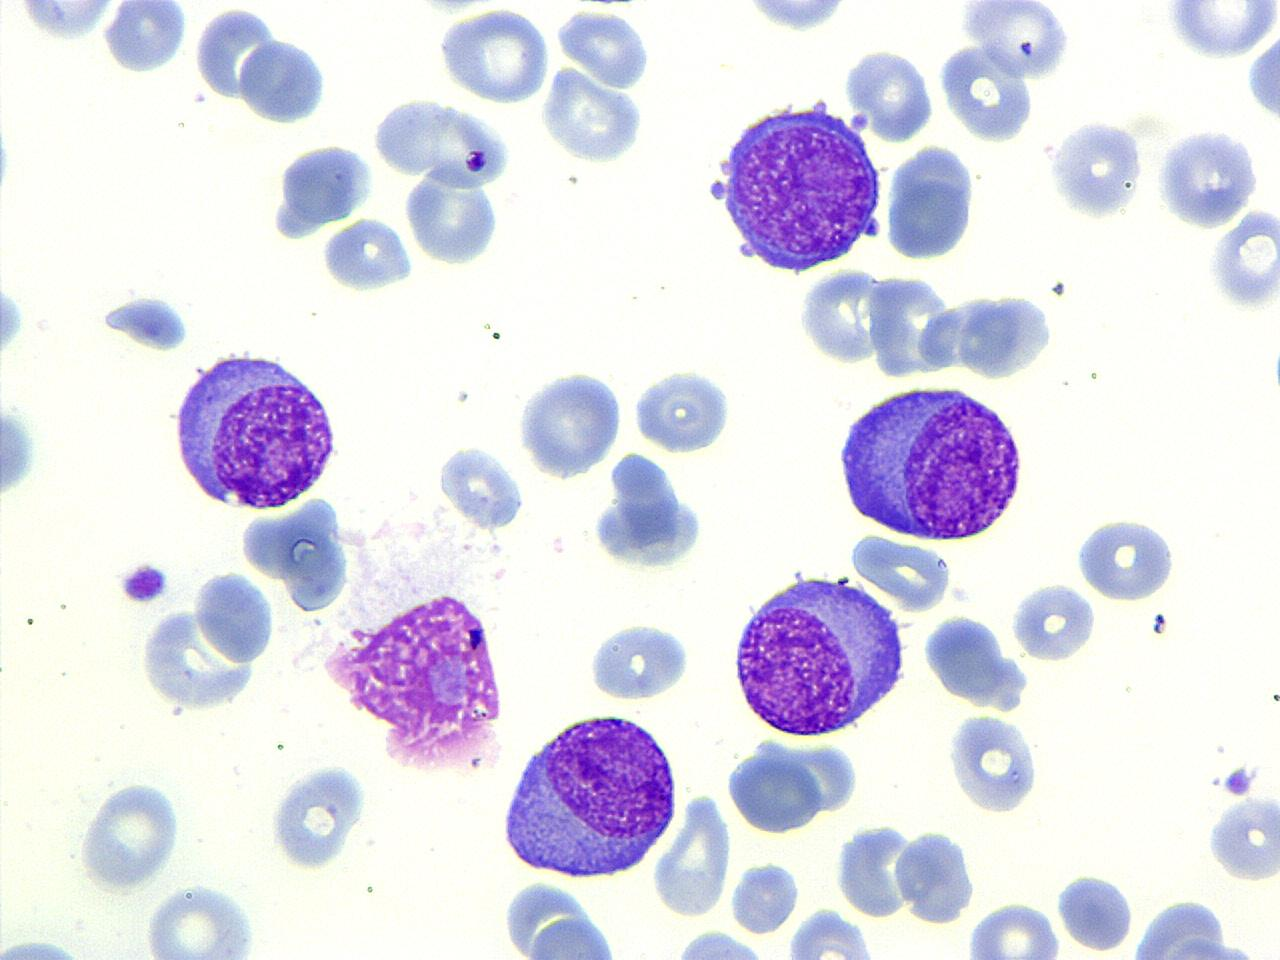Platelets: (946, 710, 1042, 816), (554, 7, 656, 91), (1207, 208, 1279, 315), (1160, 1, 1278, 64), (1009, 580, 1097, 664), (1203, 794, 1279, 886), (1055, 870, 1137, 952), (98, 295, 191, 354), (0, 405, 41, 502), (1246, 22, 1280, 127), (114, 558, 171, 608), (0, 936, 91, 960), (0, 280, 26, 358), (0, 123, 16, 202), (1222, 764, 1256, 800), (1268, 340, 1280, 407), (465, 145, 489, 170), (707, 178, 729, 202), (863, 216, 883, 238), (1152, 610, 1168, 636)
RBC: (74, 776, 184, 896), (436, 6, 550, 108), (649, 789, 734, 919), (864, 272, 959, 383), (141, 878, 259, 960), (952, 290, 1054, 382), (958, 0, 1071, 83), (848, 529, 954, 611), (554, 5, 652, 93), (1009, 579, 1099, 664), (1159, 1, 1279, 63), (1204, 790, 1280, 884), (1054, 870, 1138, 954), (962, 901, 1062, 959), (784, 906, 878, 958)
WBC: (79, 0, 748, 446), (318, 583, 514, 775), (832, 377, 1028, 545), (500, 708, 684, 883), (710, 95, 885, 277), (729, 568, 911, 742), (167, 346, 340, 513), (136, 568, 278, 718), (591, 448, 708, 580), (721, 730, 852, 836), (76, 775, 188, 898), (512, 365, 626, 481), (434, 5, 552, 111), (880, 139, 980, 262), (266, 759, 371, 873), (1152, 124, 1262, 232), (538, 63, 650, 166), (920, 608, 1035, 708), (400, 160, 506, 267), (651, 785, 734, 920), (1046, 117, 1148, 224), (936, 39, 1036, 147), (500, 877, 630, 960), (272, 137, 376, 238), (944, 710, 1043, 816), (630, 360, 736, 458), (866, 271, 958, 383), (585, 616, 695, 706), (1074, 512, 1180, 604), (1123, 896, 1275, 960), (954, 291, 1058, 384), (841, 44, 936, 145), (141, 882, 262, 960), (236, 33, 332, 129), (275, 493, 351, 613), (959, 0, 1073, 80), (832, 822, 916, 922), (192, 4, 276, 104), (436, 441, 528, 532), (894, 826, 976, 926), (193, 568, 276, 666), (320, 216, 415, 296), (1159, 0, 1279, 62), (1204, 790, 1280, 886), (1055, 866, 1135, 956), (1015, 582, 1099, 663), (100, 2, 190, 75), (962, 898, 1066, 960), (3, 0, 131, 44), (727, 858, 800, 935), (719, 0, 870, 36), (784, 905, 874, 960), (523, 915, 627, 960), (651, 926, 782, 958), (1245, 20, 1280, 129), (0, 930, 101, 958)
